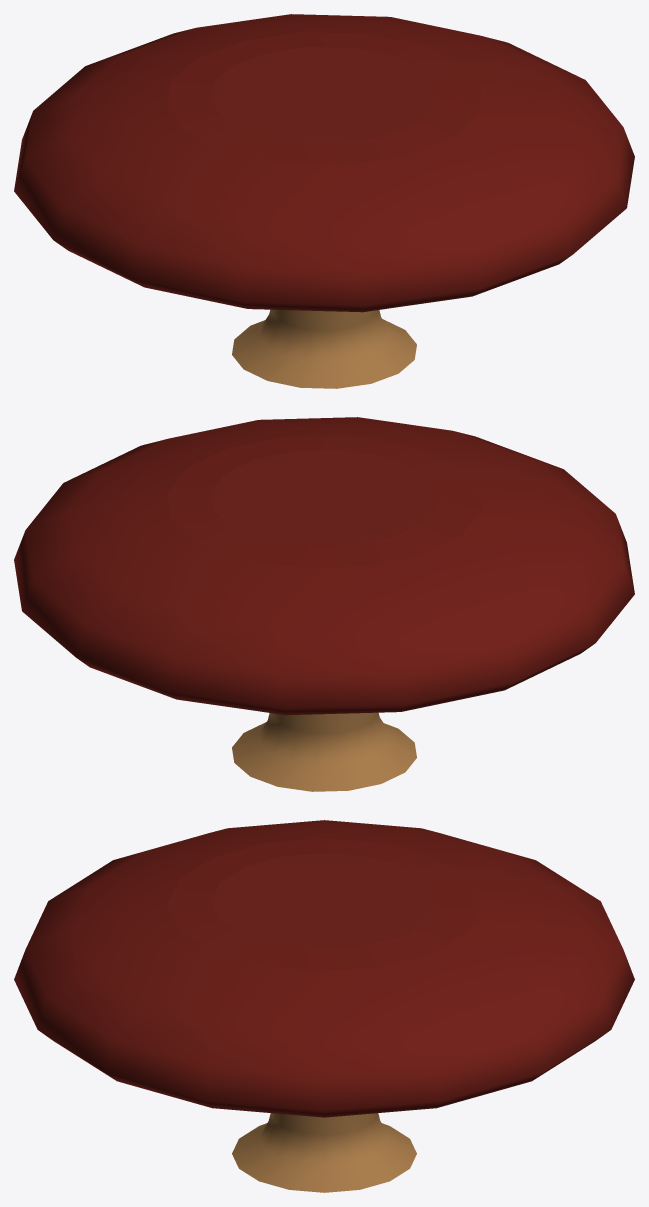
The model's file is shroomtable.fbx.
3 views of the same model, one above another, from view 1: azimuth 30°, elevation 25°; view 2: azimuth 150°, elevation 25°; view 3: azimuth 270°, elevation 25° (orthographic).
Parts seen in each view (by area): view 1: shroomtable; view 2: shroomtable; view 3: shroomtable.
Boxes of the visible parts, box(x1,y1,x2,y2) form: shroomtable: box(14, 14, 634, 388); shroomtable: box(14, 417, 634, 791); shroomtable: box(14, 820, 634, 1192).
Bounding box in the file's own units: 169 × 76.08 × 169.
